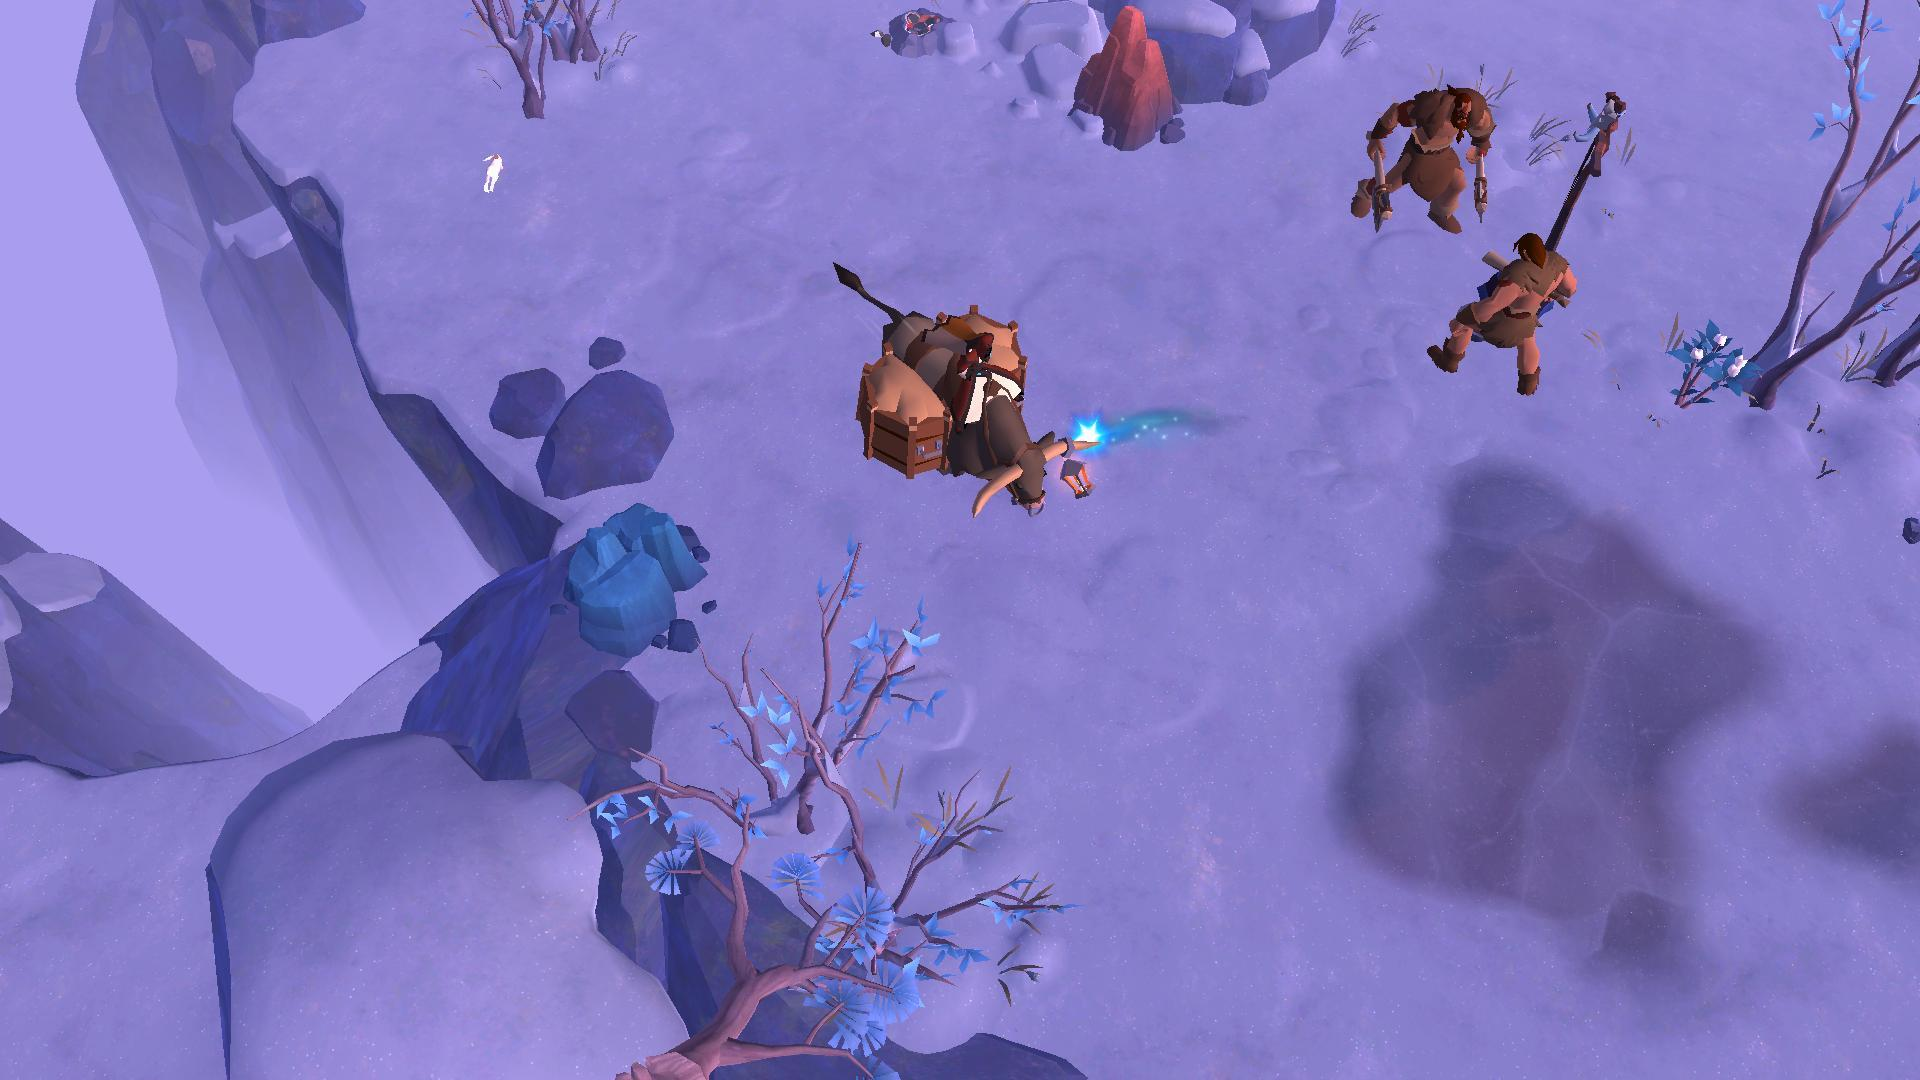enemy_factionKeeper: (1428, 231, 1575, 400), (1360, 71, 1493, 241)
fiber_t4: (1669, 318, 1762, 421)
rock_t4: (564, 493, 713, 655)
rock_t5: (1073, 1, 1179, 149)
